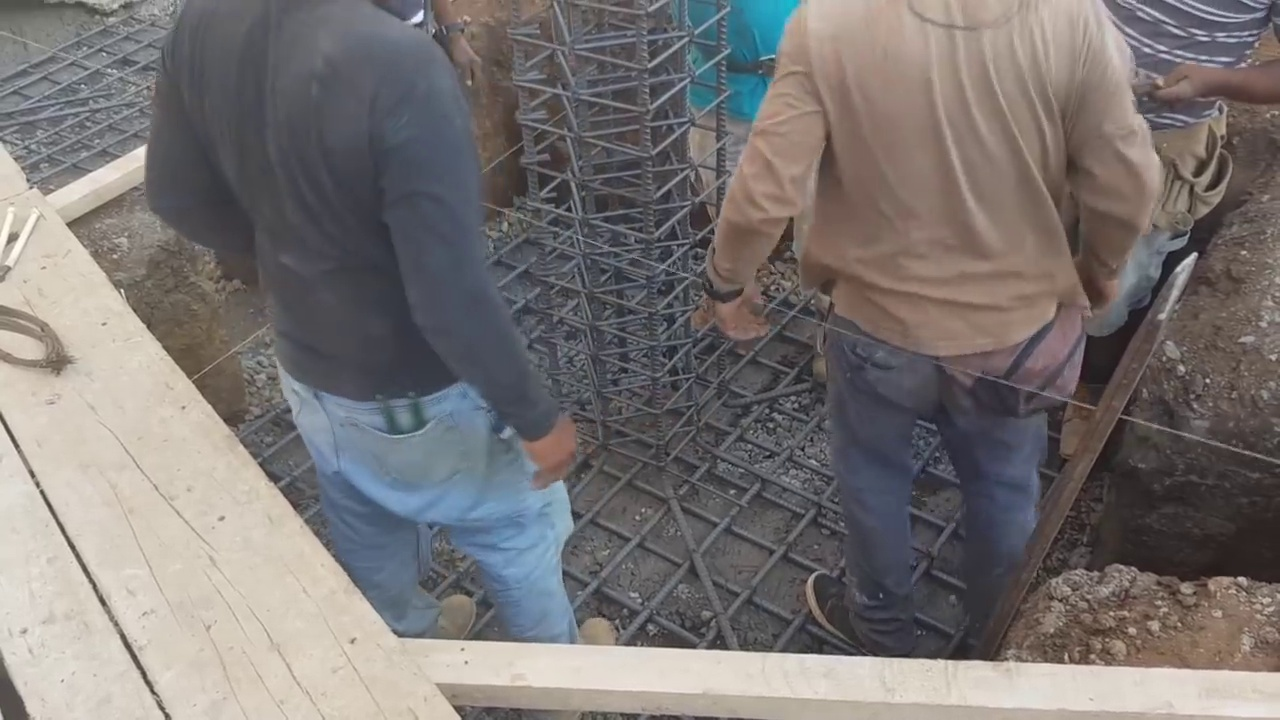person: (149, 0, 598, 707), (721, 0, 1158, 660), (1047, 0, 1279, 462), (655, 6, 818, 332)
